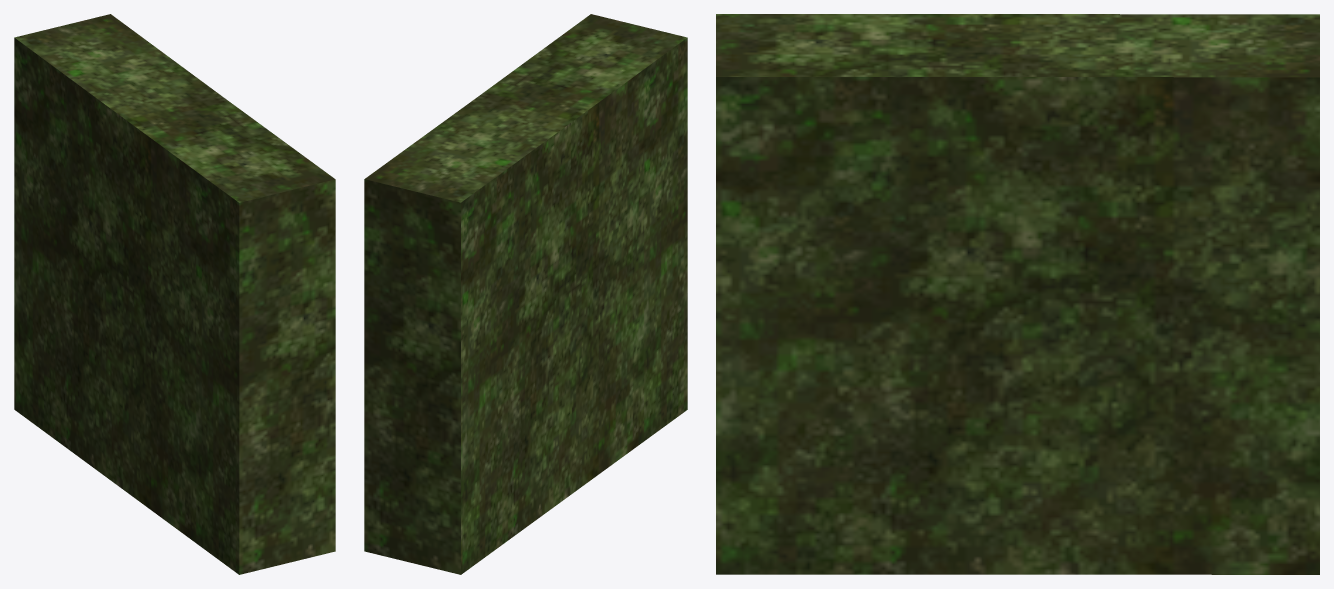
Rendered from OVERHILL_A_01_OBJECT228.fbx.
The picture shows the model from 3 angles, left to right: view 1: azimuth 30°, elevation 25°; view 2: azimuth 150°, elevation 25°; view 3: azimuth 270°, elevation 25°; orthographic projection. The views are drawn at different scales.
Visible parts, largest first — view 1: OVERHILL_A_01_OBJECT228; view 2: OVERHILL_A_01_OBJECT228; view 3: OVERHILL_A_01_OBJECT228.
Boxes of the visible parts, x1,y1,x2,y2 form: OVERHILL_A_01_OBJECT228: [14, 14, 335, 574]; OVERHILL_A_01_OBJECT228: [364, 14, 687, 574]; OVERHILL_A_01_OBJECT228: [716, 14, 1319, 574].
Bounding box in the file's own units: 8433 × 30865 × 33940.
Materials: 1 (1 with a texture image).
